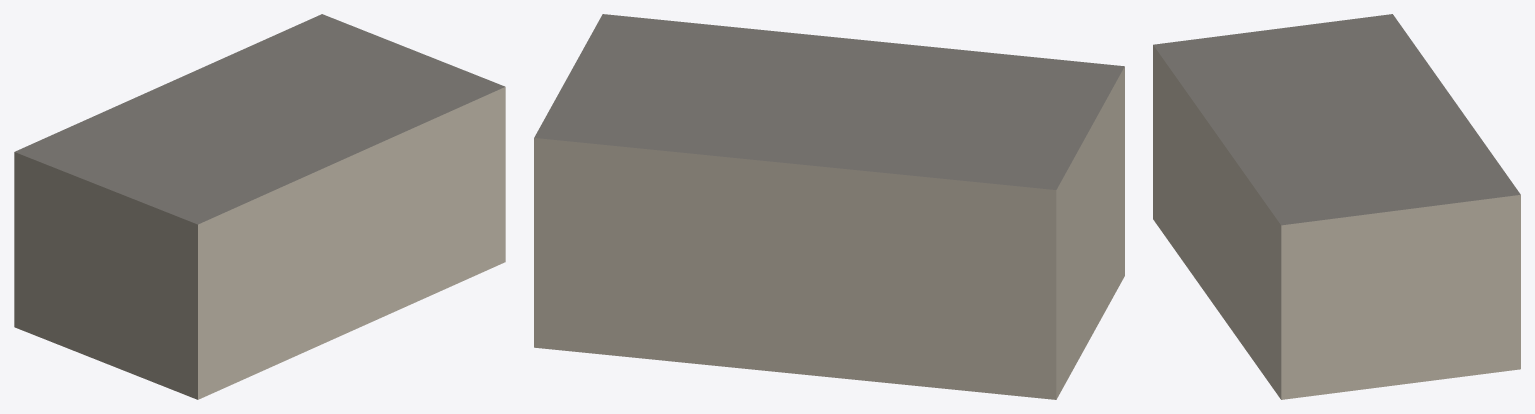
3 views of the same model, side by side, from view 1: azimuth 30°, elevation 25°; view 2: azimuth 150°, elevation 25°; view 3: azimuth 270°, elevation 25° (orthographic). The views are drawn at different scales.
Visible parts, largest first — view 1: HP-w495105528; view 2: HP-w495105528; view 3: HP-w495105528.
Part boxes in pixels (box(x1,y1,x2,y2)): HP-w495105528: box(14, 14, 505, 399); HP-w495105528: box(534, 14, 1124, 399); HP-w495105528: box(1153, 14, 1520, 399).
Bounding box in the file's own units: 31.17 × 12 × 22.92.
